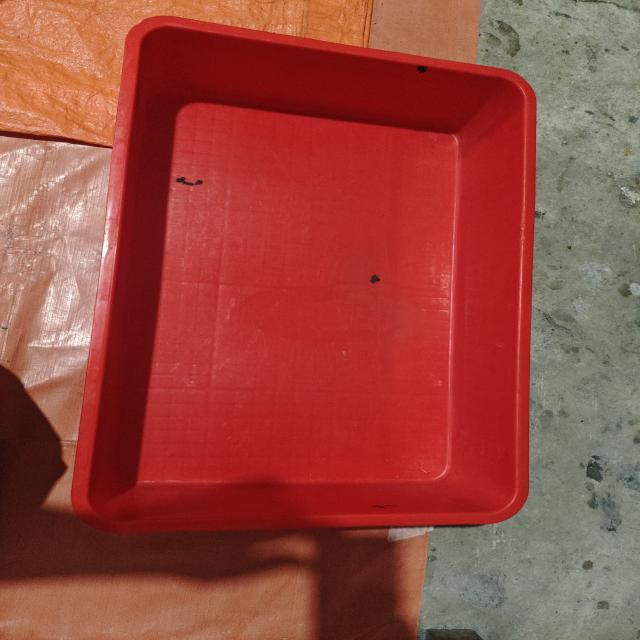red plastic box: (71, 16, 537, 534)
